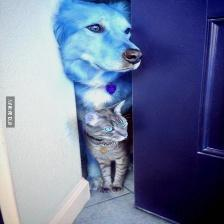kedo: (85, 99, 128, 194)
